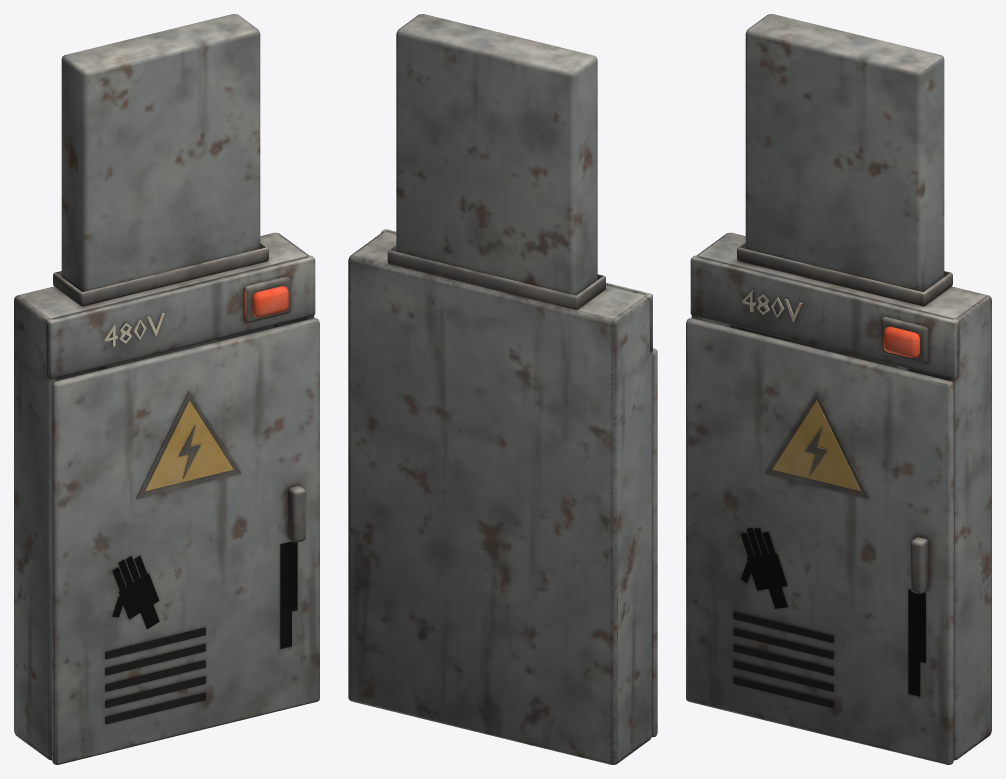
File: electrical_panel.fbx
3 renders of one model, left to right at view 1: azimuth 30°, elevation 25°; view 2: azimuth 150°, elevation 25°; view 3: azimuth 330°, elevation 25°, orthographic.
Visible parts, largest first — view 1: Door, Body, Glow; view 2: Body, Door; view 3: Door, Body, Glow.
Boxes of the visible parts, x1=… form: Door: x1=52, y1=318, x2=319, y2=764; Body: x1=14, y1=14, x2=315, y2=760; Glow: x1=252, y1=286, x2=288, y2=317; Body: x1=348, y1=14, x2=652, y2=764; Door: x1=651, y1=348, x2=657, y2=737; Door: x1=686, y1=318, x2=953, y2=764; Body: x1=690, y1=14, x2=991, y2=760; Glow: x1=883, y1=326, x2=919, y2=357.
Bounding box in the file's own units: 2.4 × 5.8 × 0.79.
1 material, 1 textured.
